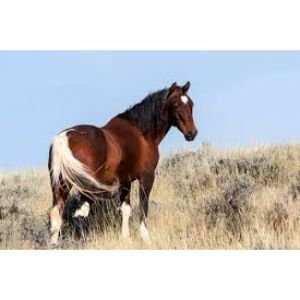horse: (43, 77, 199, 245)
